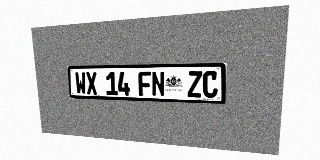1: (105, 72, 118, 95)
4: (117, 72, 130, 96)
C: (202, 71, 218, 98)
F: (138, 71, 151, 96)
N: (151, 71, 165, 96)
W: (75, 72, 87, 94)
X: (85, 72, 98, 95)
Z: (187, 71, 202, 98)
